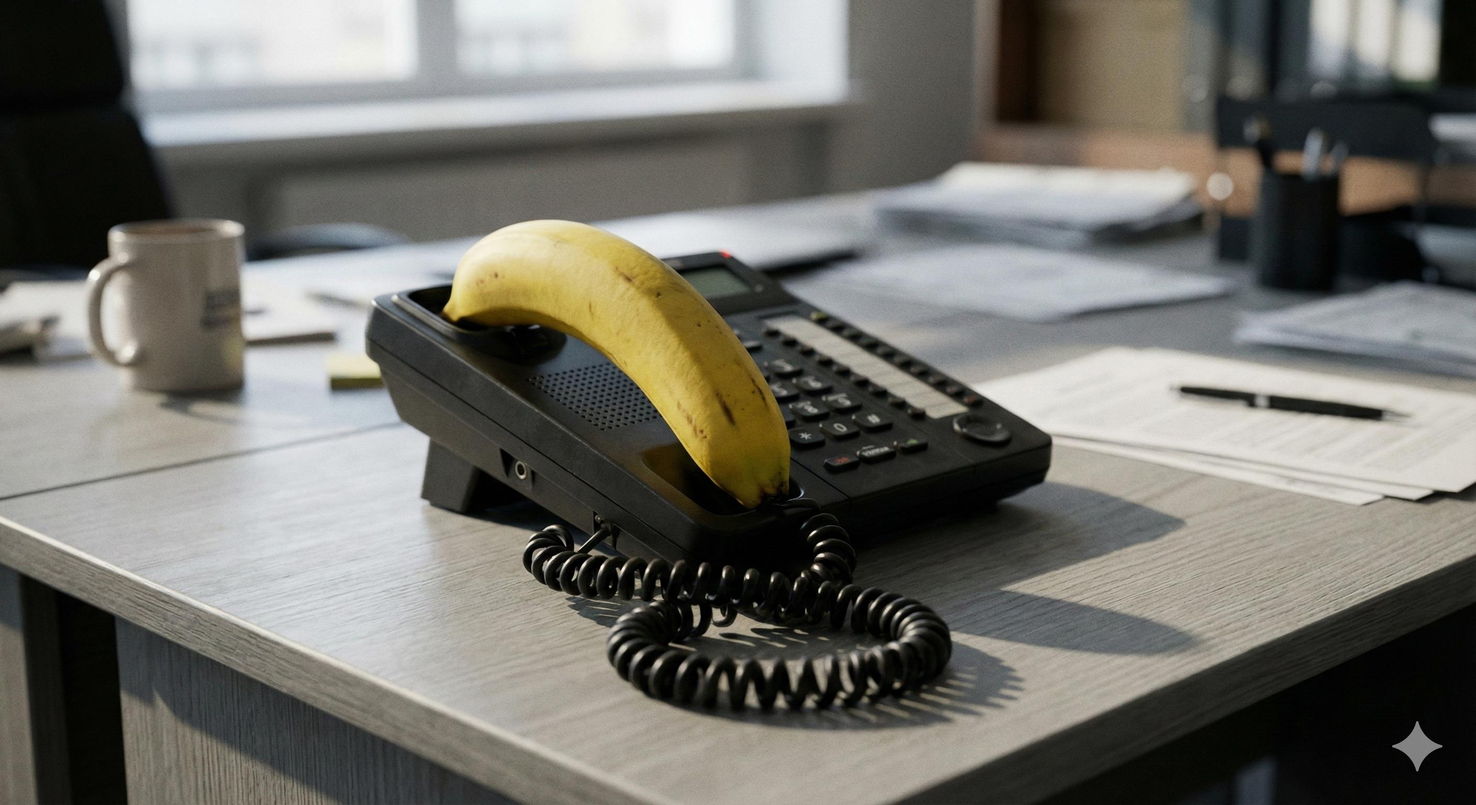banana: (438, 216, 803, 513)
